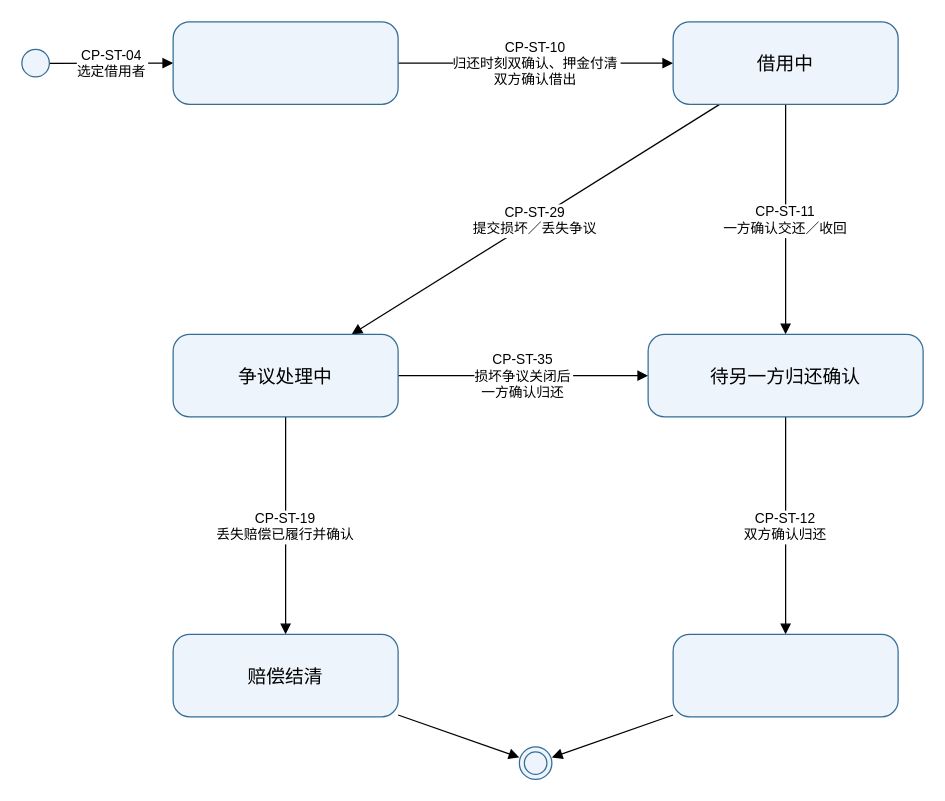
Image size: 945x801. Some labels were removed from this diagram. The shapes that lost their labels are listed below. From the top down, each one's centre as x and y in pixels, then its label:
At [285,62]: "待交付".
At [785,675]: "已归还".
